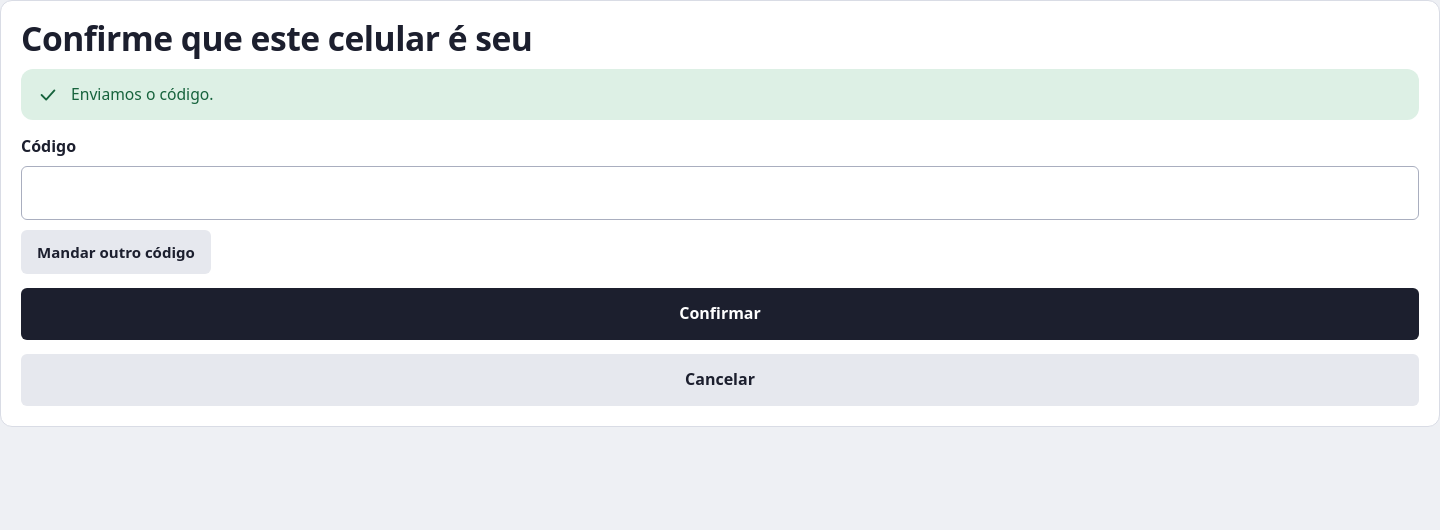
Test: PosseNoCadastro › celular: "Mandar outro código" depois da espera pede de novo
expect the text "Enviamos o código." is shown: met, box [71, 83, 214, 106]
Click the button "Mandar outro código".
click(116, 252)  # box [21, 230, 211, 274]
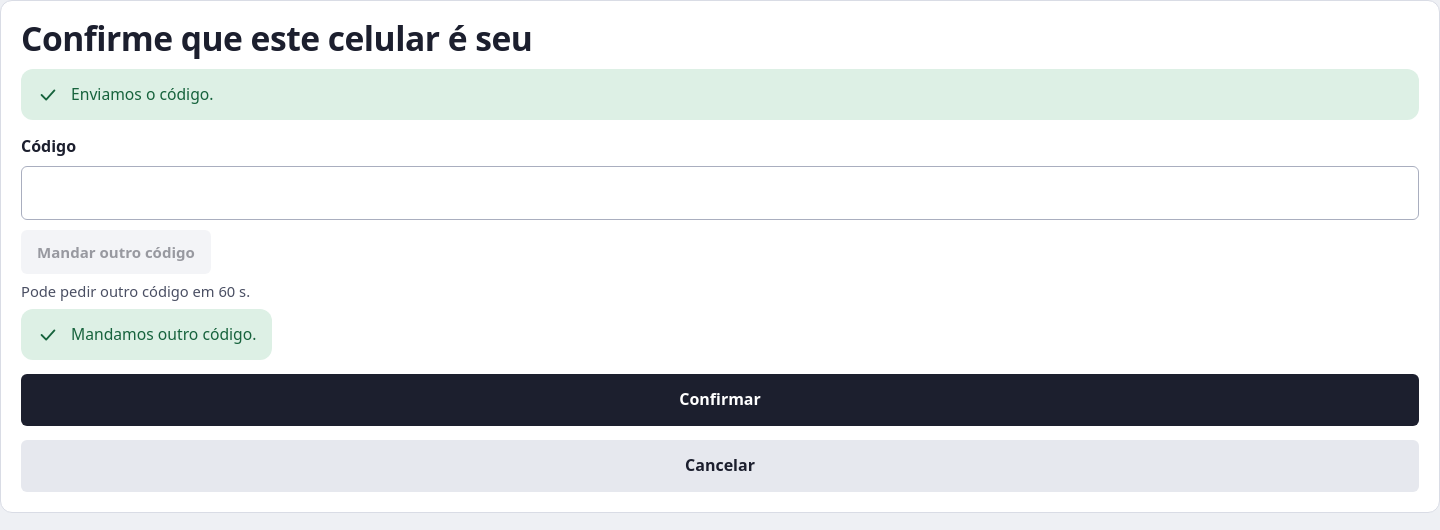
expect the text "Mandamos outro código." is shown: met, box [71, 323, 256, 346]
